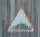Speed Breaker ahead: (3, 4, 35, 33)
